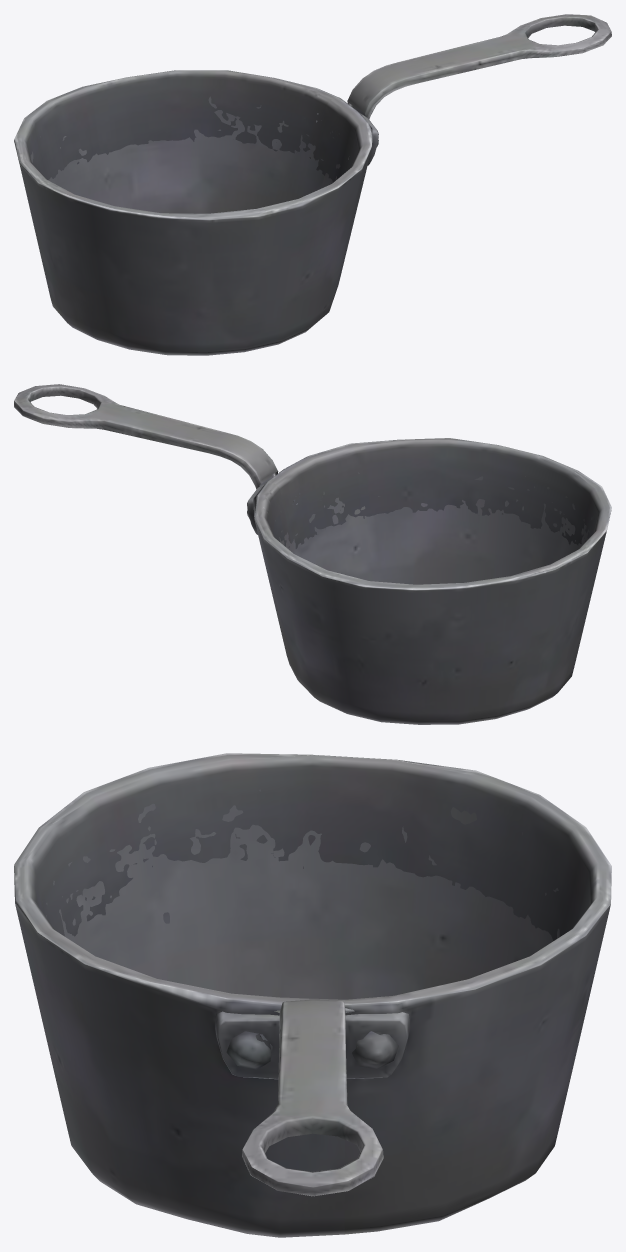
3 views of the same model, one above another, from view 1: azimuth 30°, elevation 25°; view 2: azimuth 150°, elevation 25°; view 3: azimuth 270°, elevation 25° (orthographic). The views are drawn at different scales.
Visible parts, largest first — view 1: SM_Cookware_CastIron_Pot_Small_01_LOD0; view 2: SM_Cookware_CastIron_Pot_Small_01_LOD0; view 3: SM_Cookware_CastIron_Pot_Small_01_LOD0.
Part boxes in pixels (<box>): SM_Cookware_CastIron_Pot_Small_01_LOD0: <box>14,14,611,355</box>; SM_Cookware_CastIron_Pot_Small_01_LOD0: <box>14,384,611,724</box>; SM_Cookware_CastIron_Pot_Small_01_LOD0: <box>14,753,611,1237</box>.
Size of the model in its own units: 0.6837 by 0.2063 by 0.3687.
1 material, 1 textured.
